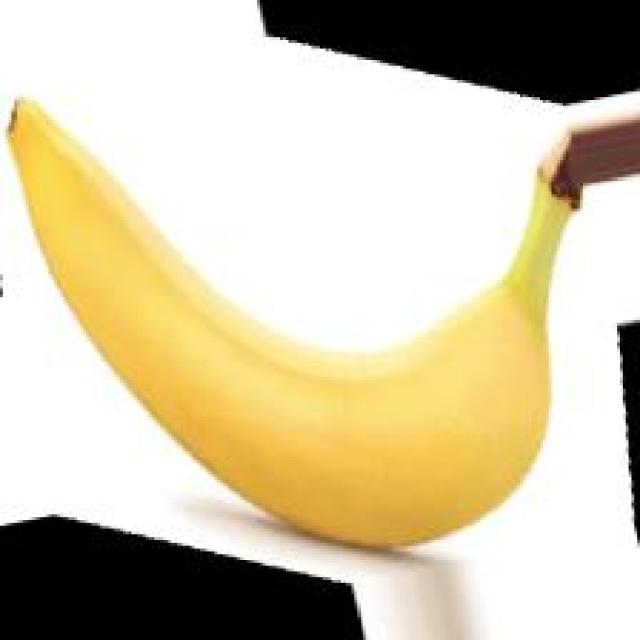banana: (6, 59, 593, 568)
